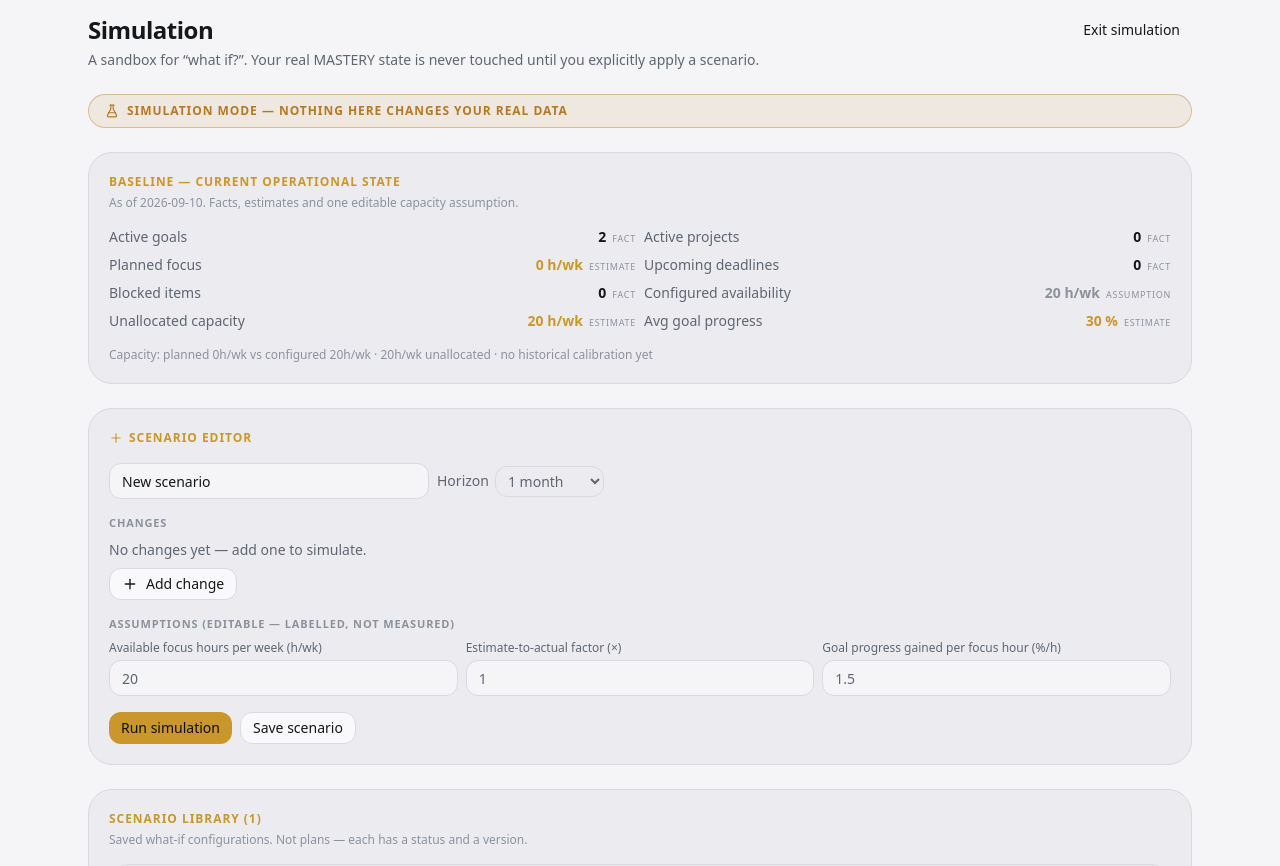
SimulationView › runs a simulation and shows baseline vs projected with fact/projection labels
The image size is (1280, 866).
What coordinates should you click on to do the following:
click the button "Add change"
I would click on:
 (173, 584)
Its box is [109, 568, 237, 600].
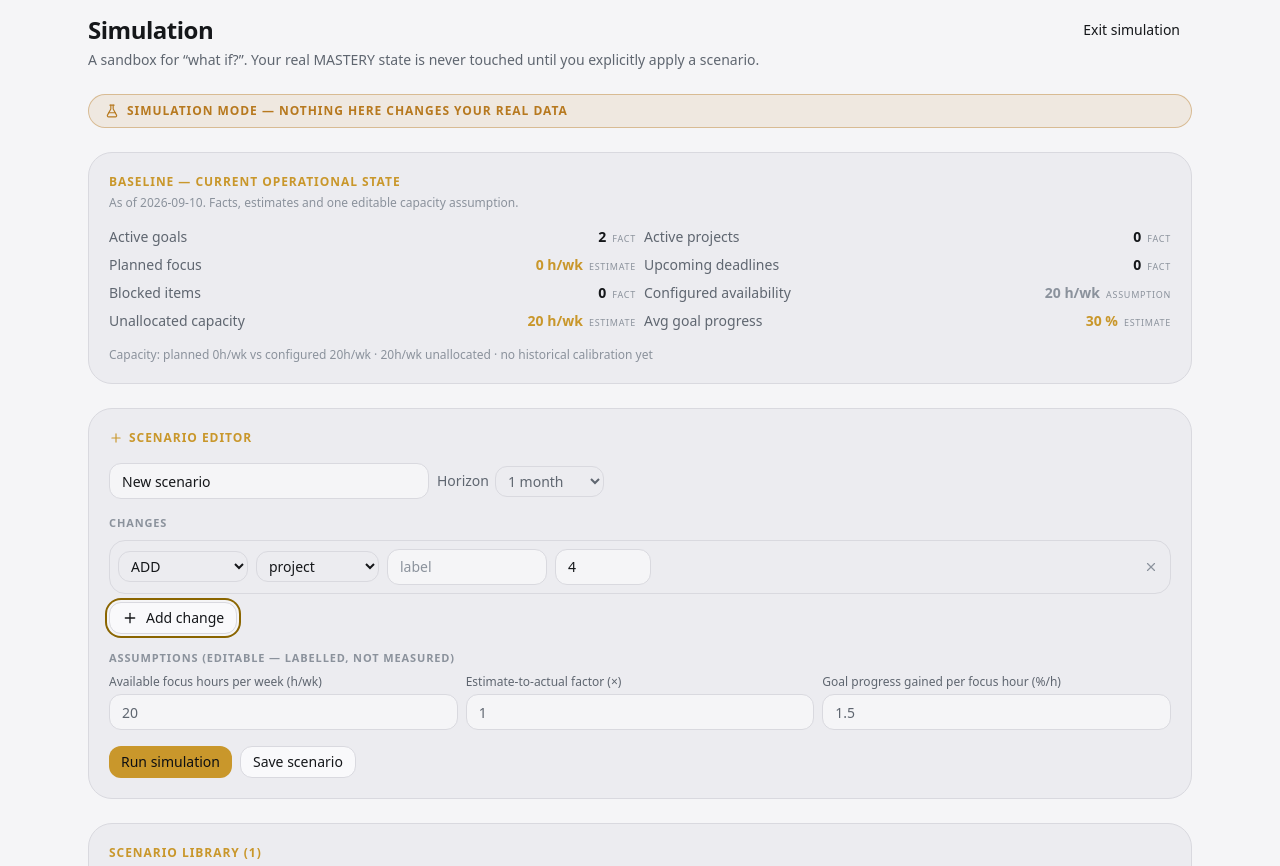
What coordinates should you click on to do the following:
click the button "Run simulation"
I would click on:
 (170, 762)
Its box is [109, 746, 232, 778].
(page scrolled)
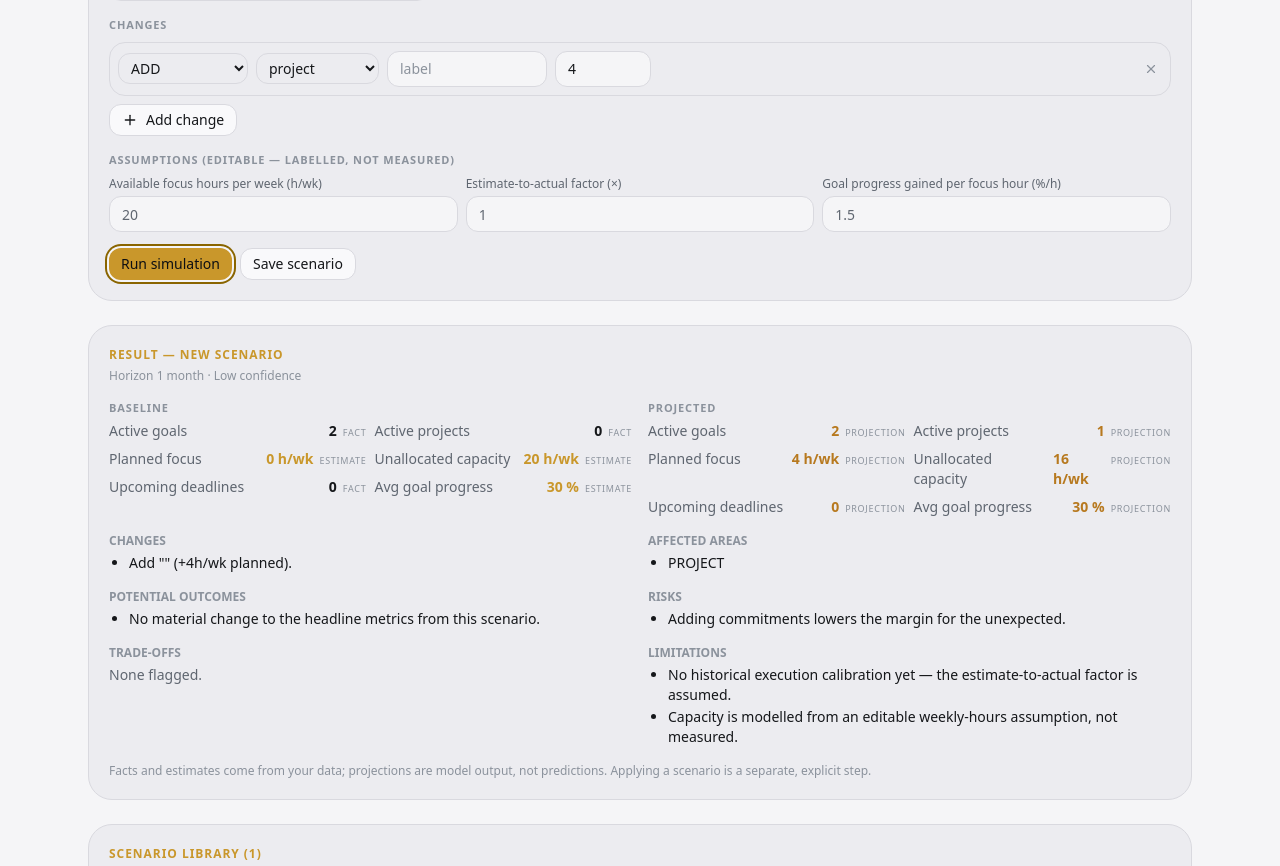
Check: the text "Projected" is shown, box [648, 400, 716, 415]
Check: the 1st text "Projection" is shown, box [845, 426, 906, 439]
